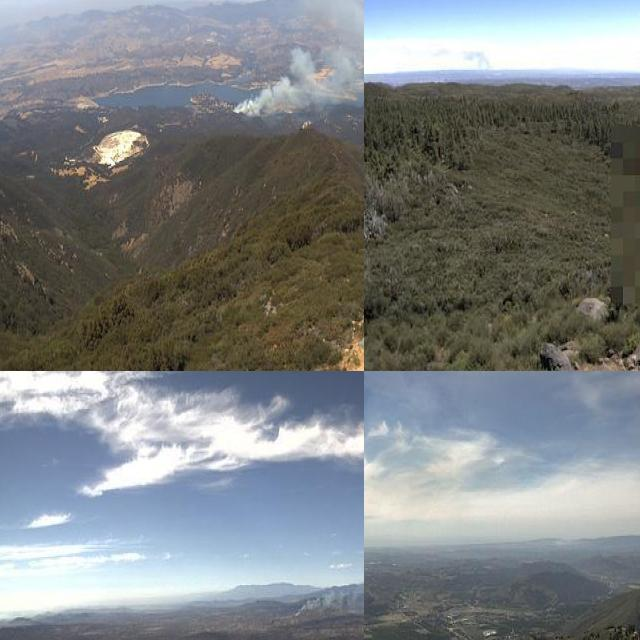smoke: (228, 0, 364, 119), (283, 580, 364, 622), (432, 42, 492, 78)
